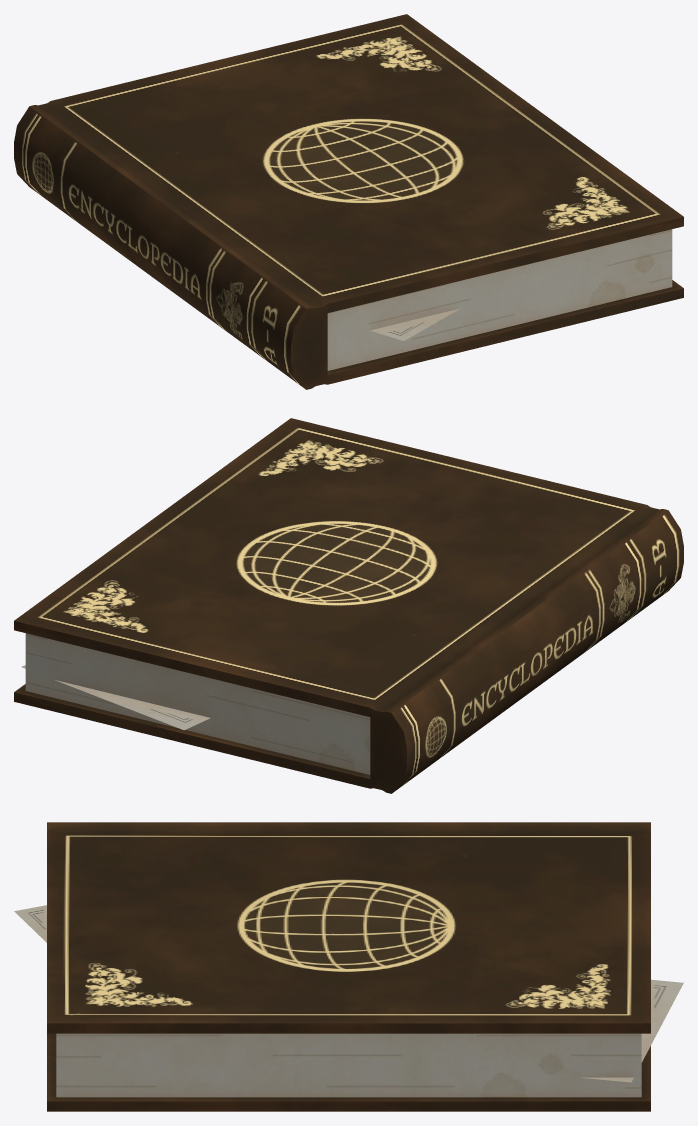
The model's file is Encyclopedia.fbx.
3 renders of one model, top to bottom at view 1: azimuth 30°, elevation 25°; view 2: azimuth 150°, elevation 25°; view 3: azimuth 270°, elevation 25°, orthographic. The views are drawn at different scales.
Visible parts, largest first — view 1: Box001; view 2: Box001; view 3: Box001.
Part boxes in pixels (box(x1,y1,x2,y2)): Box001: box(14, 14, 683, 389); Box001: box(14, 418, 683, 793); Box001: box(14, 822, 683, 1111).
Bounding box in the file's own units: 148 × 29.09 × 200.
